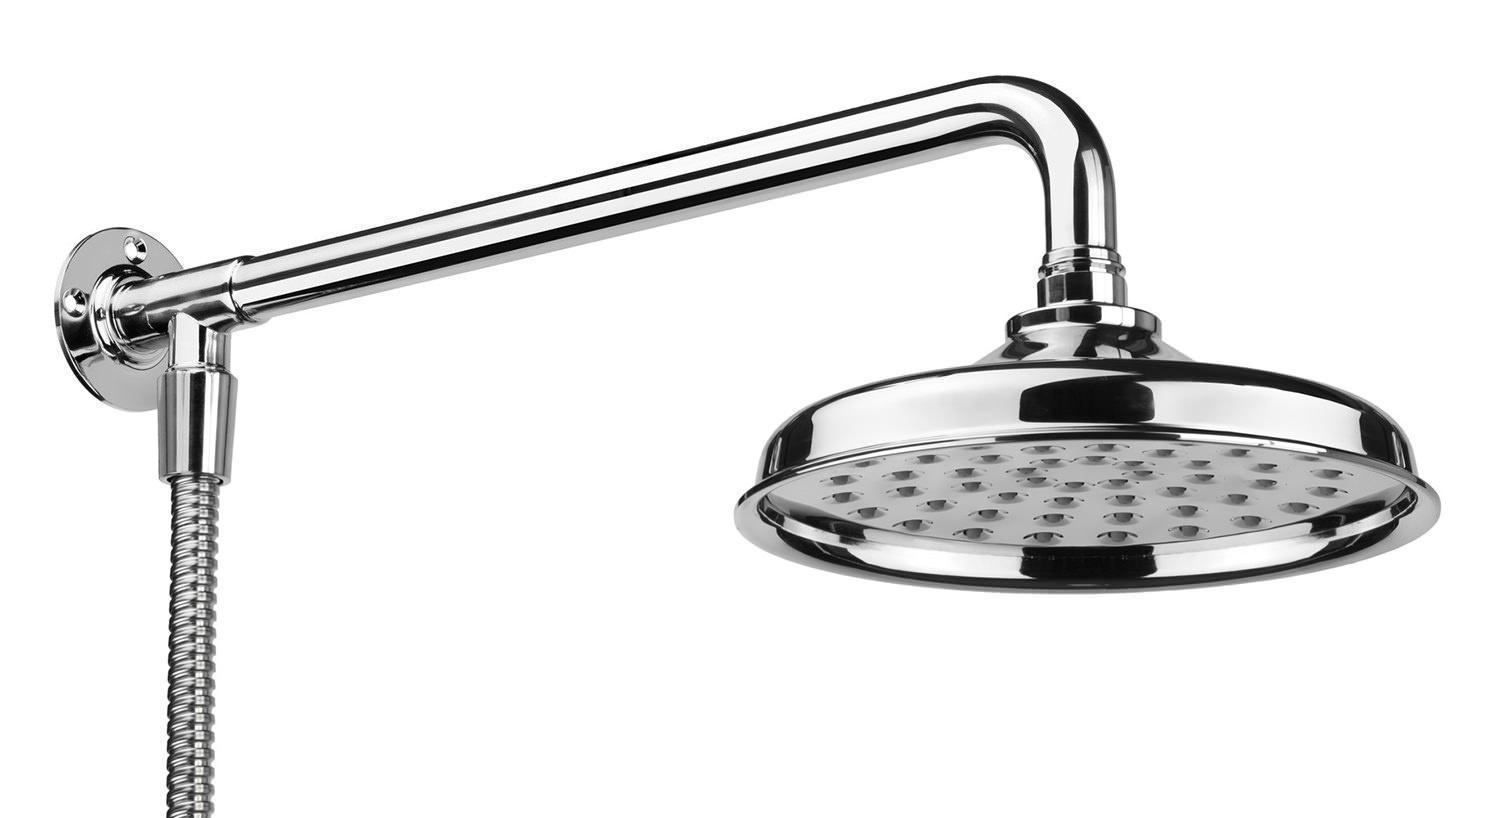Ducha: (69, 0, 1431, 817)
